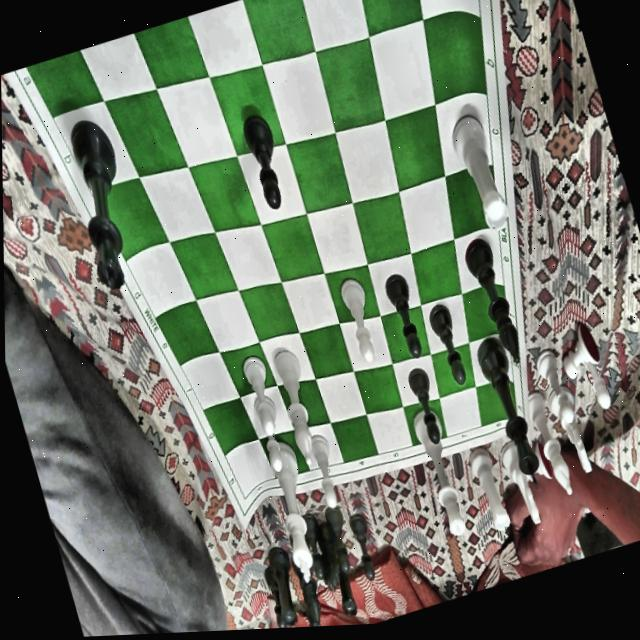BlackBishop: (458, 230, 528, 371)
BlackKing: (471, 330, 549, 499)
BlackPawn: (236, 106, 294, 220), (382, 269, 429, 364), (425, 299, 470, 388), (404, 361, 448, 450), (345, 508, 384, 587)
BlackQueen: (54, 110, 152, 297)
BlackRook: (320, 529, 364, 624), (261, 542, 306, 628)
WhiteBishop: (269, 343, 327, 469), (520, 388, 576, 501)
WhiteKing: (260, 437, 331, 589)
WhiteKnight: (545, 383, 594, 479), (497, 439, 544, 532)
WhitePawn: (336, 274, 384, 367), (530, 342, 577, 428), (239, 350, 284, 439), (305, 427, 347, 513), (250, 392, 292, 475), (573, 332, 615, 414)
WhiteQueen: (407, 400, 472, 543)
WhiteRook: (444, 107, 513, 238), (465, 445, 514, 537)
